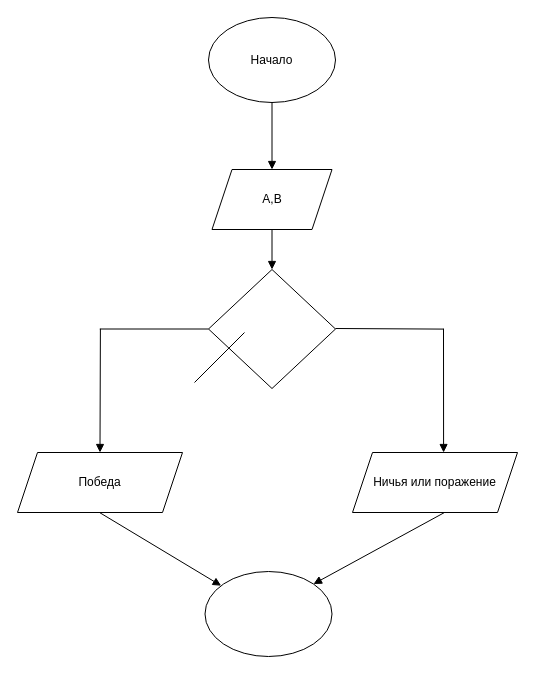
The diagram is 535 pixels wide and 674 high, and some of its shapes have lost their labels. The centre of each missing label's shape, as x and y in pixels:
A%2 != B%2 2: the point at 272,328
Конец: the point at 268,613
